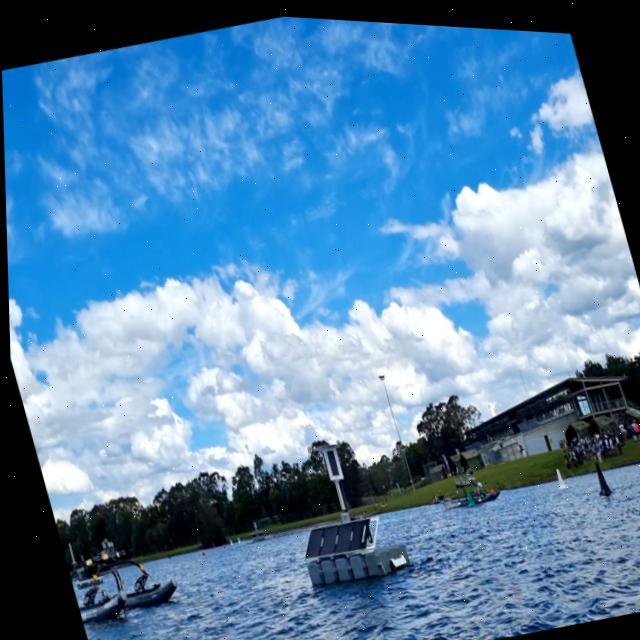led: (320, 442, 339, 476)
